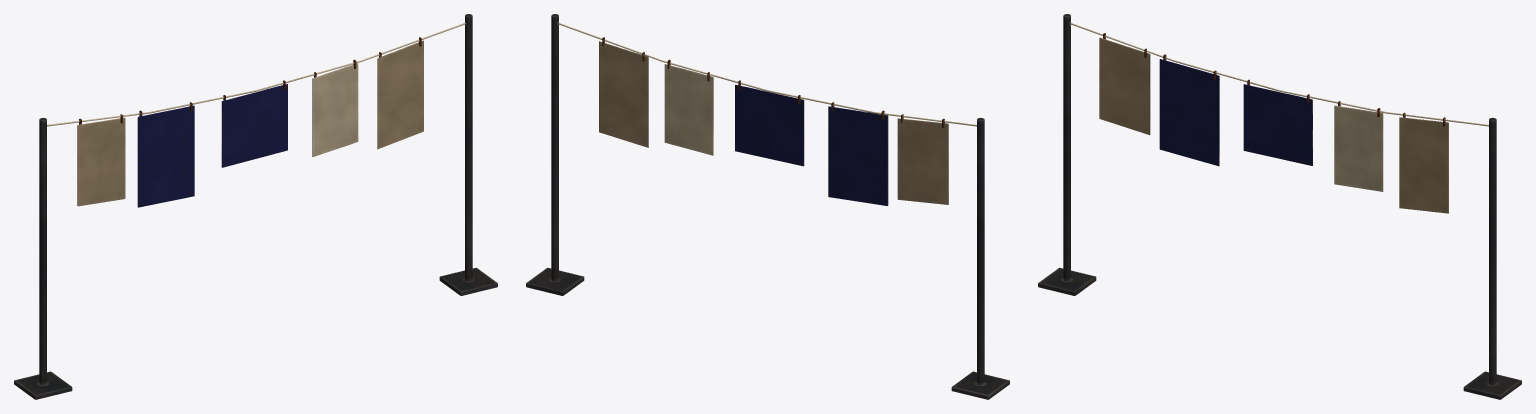
Rendered from laundry_line.glb.
The picture shows the model from 3 angles, left to right: view 1: azimuth 30°, elevation 25°; view 2: azimuth 150°, elevation 25°; view 3: azimuth 330°, elevation 25°; orthographic projection.
Visible parts, largest first — view 1: laundry_line; view 2: laundry_line; view 3: laundry_line.
Boxes of the visible parts, box(x1,y1,x2,y2) form: laundry_line: box(14, 14, 497, 399); laundry_line: box(526, 14, 1009, 399); laundry_line: box(1038, 14, 1521, 399).
Bounding box in the file's own units: 3.48 × 1.93 × 0.28.
Materials: 1 (1 with a texture image).
